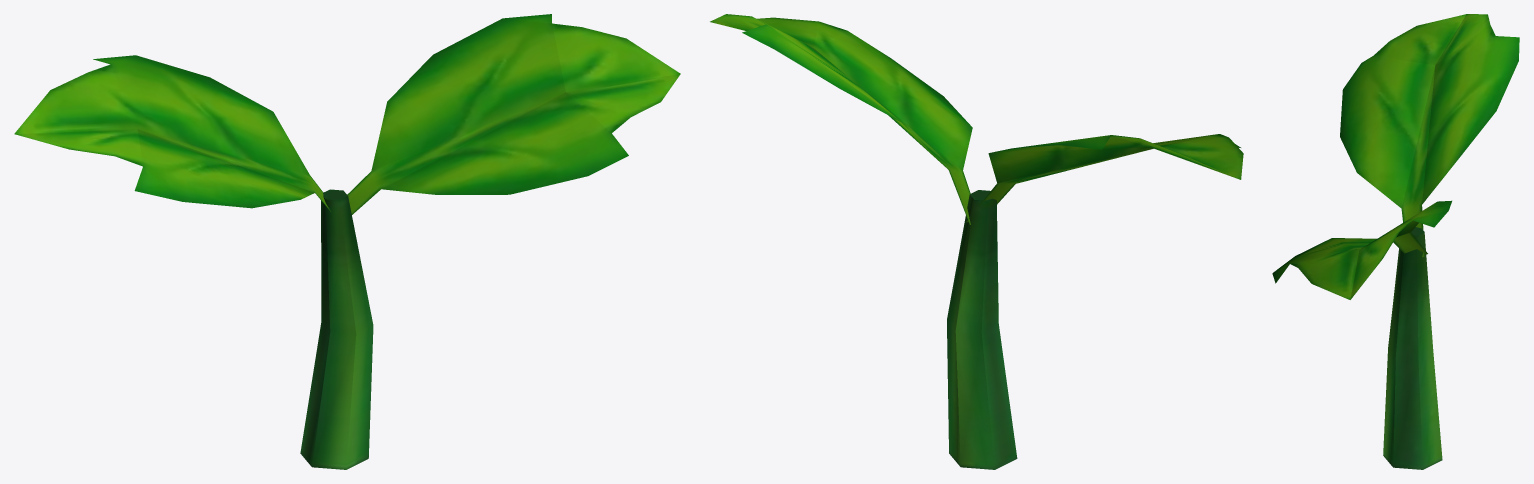
Rendered from tomato_lv1.glb.
3 views of the same model, side by side, from view 1: azimuth 30°, elevation 25°; view 2: azimuth 150°, elevation 25°; view 3: azimuth 270°, elevation 25° (orthographic). The views are drawn at different scales.
Parts seen in each view (by area): view 1: SM_Tomato_Lv1_Tomato_SG_0; view 2: SM_Tomato_Lv1_Tomato_SG_0; view 3: SM_Tomato_Lv1_Tomato_SG_0.
Part boxes in pixels (x1=…): SM_Tomato_Lv1_Tomato_SG_0: x1=14, y1=14, x2=680, y2=469; SM_Tomato_Lv1_Tomato_SG_0: x1=710, y1=14, x2=1243, y2=469; SM_Tomato_Lv1_Tomato_SG_0: x1=1272, y1=14, x2=1519, y2=469.
Bounding box in the file's own units: 0.2438 × 0.1555 × 0.1002.
Materials: 1 (1 with a texture image).
